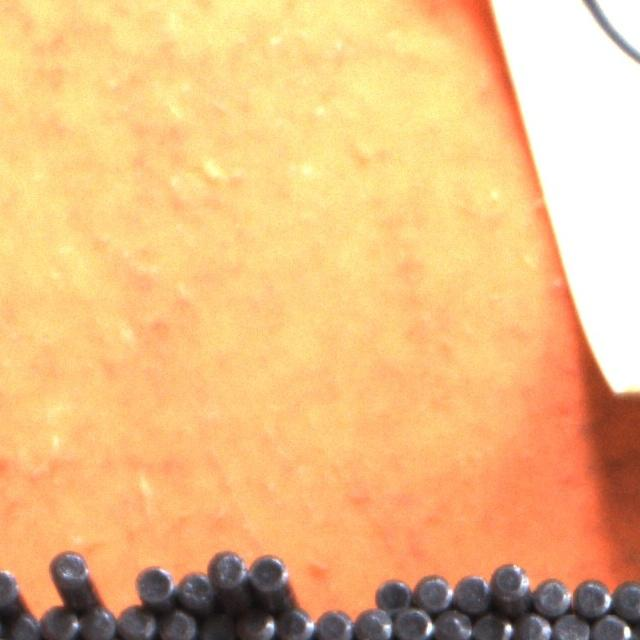tool: (135, 565, 175, 607), (489, 560, 529, 602), (50, 548, 90, 589), (209, 547, 248, 586), (178, 571, 216, 610), (573, 576, 612, 614), (533, 575, 571, 614), (248, 554, 287, 592), (413, 571, 451, 609), (453, 572, 490, 611), (117, 603, 156, 640), (393, 604, 432, 640), (372, 577, 409, 613), (79, 605, 117, 640), (217, 579, 255, 614), (314, 606, 352, 640), (353, 606, 391, 640), (41, 606, 78, 640), (276, 607, 314, 640), (158, 608, 197, 640), (434, 608, 473, 640), (237, 608, 274, 640), (2, 609, 40, 640), (198, 609, 236, 640), (552, 610, 590, 640), (474, 610, 512, 640), (513, 611, 551, 640), (590, 613, 630, 640), (613, 578, 640, 617), (0, 570, 18, 609)
